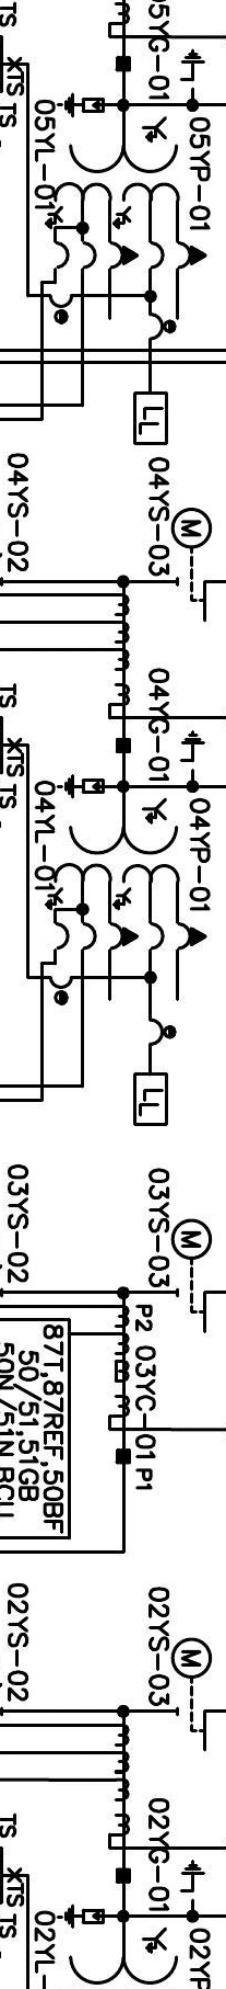115_1way_ds_w_motor: (169, 505, 212, 623), (169, 1635, 212, 1753), (170, 1217, 213, 1334)
115_gs: (179, 47, 207, 92), (179, 728, 207, 773), (179, 1858, 207, 1903)
115_la: (55, 91, 105, 118), (55, 773, 105, 800), (56, 1902, 105, 1929)
115_vt_3p: (44, 115, 208, 270), (44, 796, 208, 951)
LL: (133, 390, 169, 445), (133, 1071, 169, 1126)
